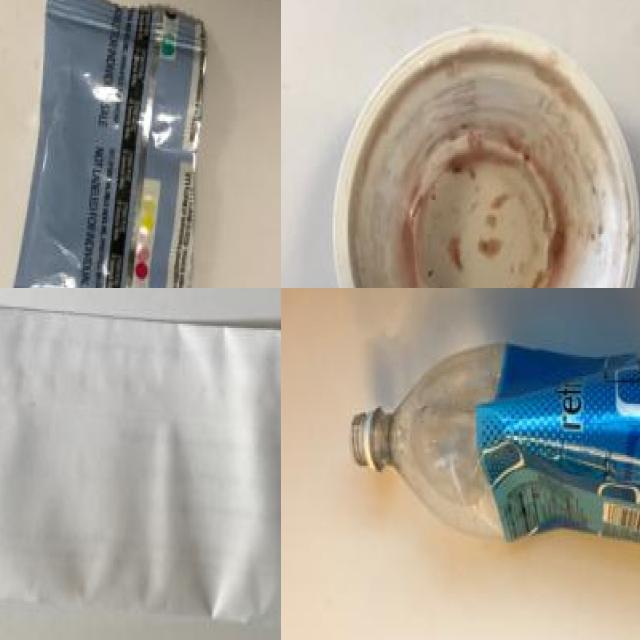paper: (0, 302, 281, 640)
plastic: (338, 334, 640, 555)
trash: (318, 10, 640, 288), (6, 0, 222, 288)
